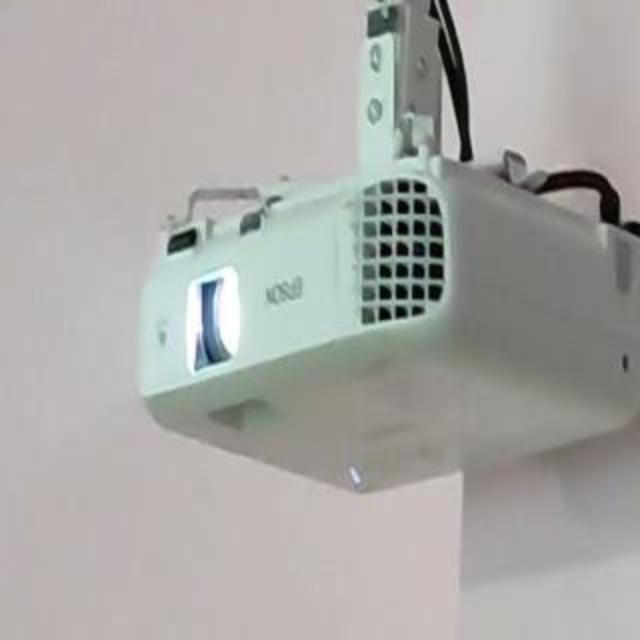Projector: (138, 156, 640, 496)
